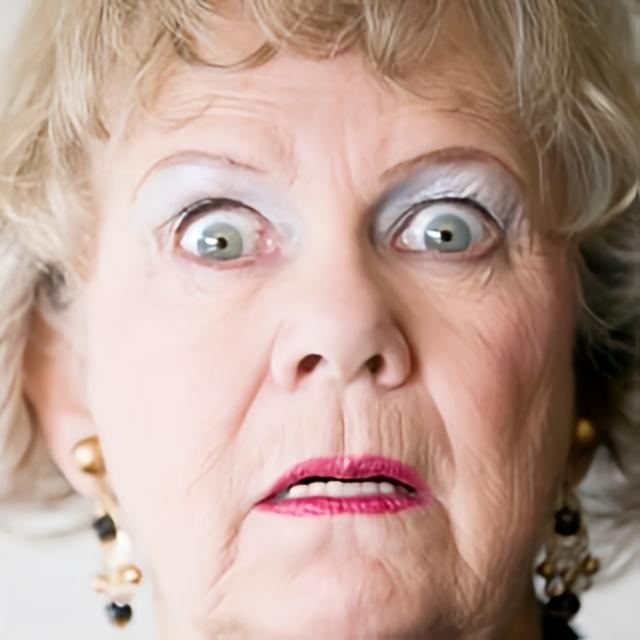fear: (82, 0, 584, 640)
